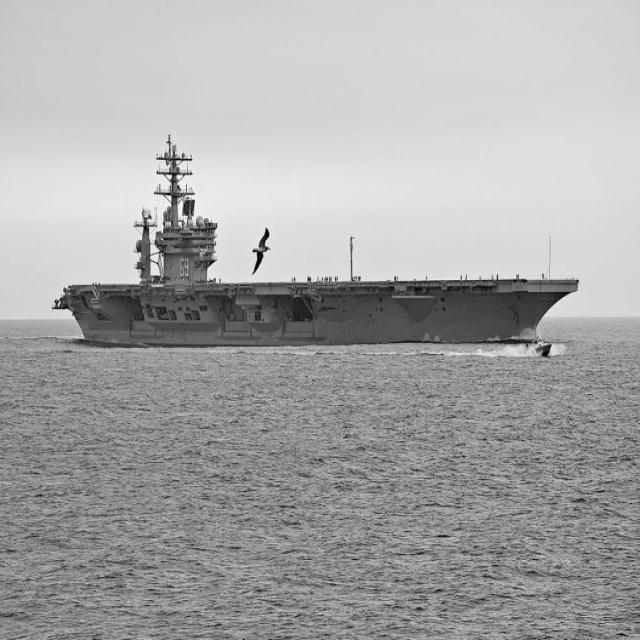Portanaves: (53, 127, 584, 350)
